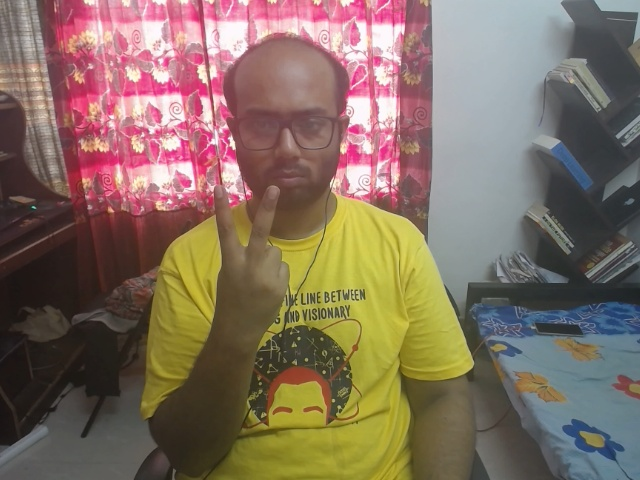two: (164, 176, 337, 353)
